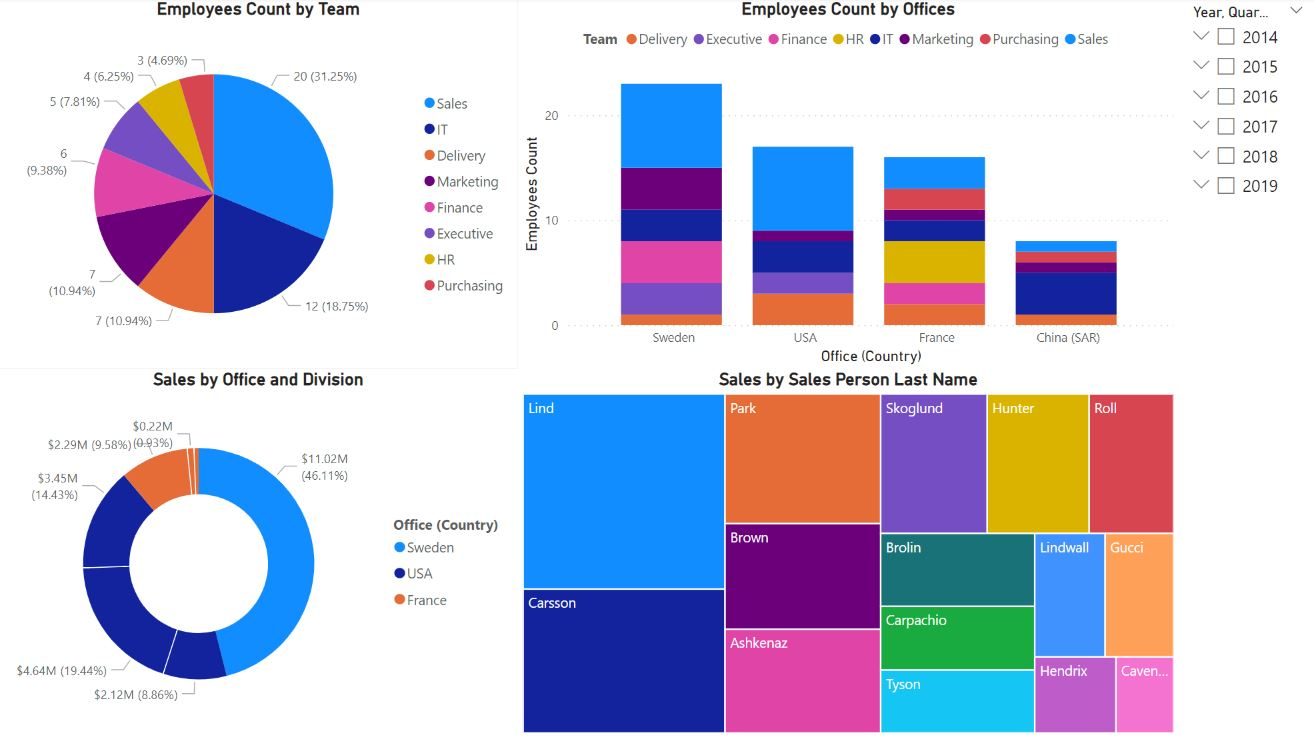

What the dashboard file says about the page in this screenshot:
{"tool":"powerbi","page":{"name":"Employee Analysis","canvas":[1280,720],"ordinal":6},"visuals":[{"type":"donutChart","title":"Sales by Office and Division","fields":{"Y":["Sum(orderdetails_fact.Sales)"],"Category":["Employees_dim.offices.OfficeCountry"],"Series":["customers_dim.divisions.DivisionName"]},"box":[0,360.9,504.6,359.1],"z":0},{"type":"pieChart","title":"Employees Count by Team","fields":{"Category":["Employees_dim.employee_team_all.team.Team"],"Y":["CountNonNull(Employees_dim.employee_team_all.TeamID)"]},"box":[0,0,504.6,360.9],"z":1000},{"type":"lineStackedColumnComboChart","title":"Employees Count by Offices","fields":{"Y":["CountNonNull(Employees_dim.EmpID)"],"Series":["Employees_dim.employee_team_all.team.Team"],"Category":["Employees_dim.offices.OfficeCountry"]},"box":[504.6,0,642.5,360.9],"z":2000},{"type":"treemap","title":"Sales by Sales Person Last Name","fields":{"Group":["Employees_dim.Last Name"],"Values":["Sum(orderdetails_fact.Sales)"]},"box":[504.6,360.9,642.5,359.1],"z":3000},{"type":"slicer","fields":{"Values":["orders_dim.OrderDate.Variation.Date Hierarchy.Year","orders_dim.OrderDate.Variation.Date Hierarchy.Quarter","orders_dim.OrderDate.Variation.Date Hierarchy.Month"]},"box":[1147.1,0,132.3,676.5],"z":4000}]}

Visuals, with their boxes in screenshot pixels (x1, y1, x2, y2), scaled from the page's 1280x720 canvas onto the 1314x737 screenshot:
"Sales by Office and Division" donutChart: [x1=0, y1=369, x2=518, y2=736]
"Employees Count by Team" pieChart: [x1=0, y1=0, x2=518, y2=369]
"Employees Count by Offices" lineStackedColumnComboChart: [x1=518, y1=0, x2=1178, y2=369]
"Sales by Sales Person Last Name" treemap: [x1=518, y1=369, x2=1178, y2=736]
slicer - orders_dim.OrderDate.Variation.Date Hierarchy.Year x orders_dim.OrderDate.Variation.Date Hierarchy.Quarter: [x1=1178, y1=0, x2=1313, y2=692]
